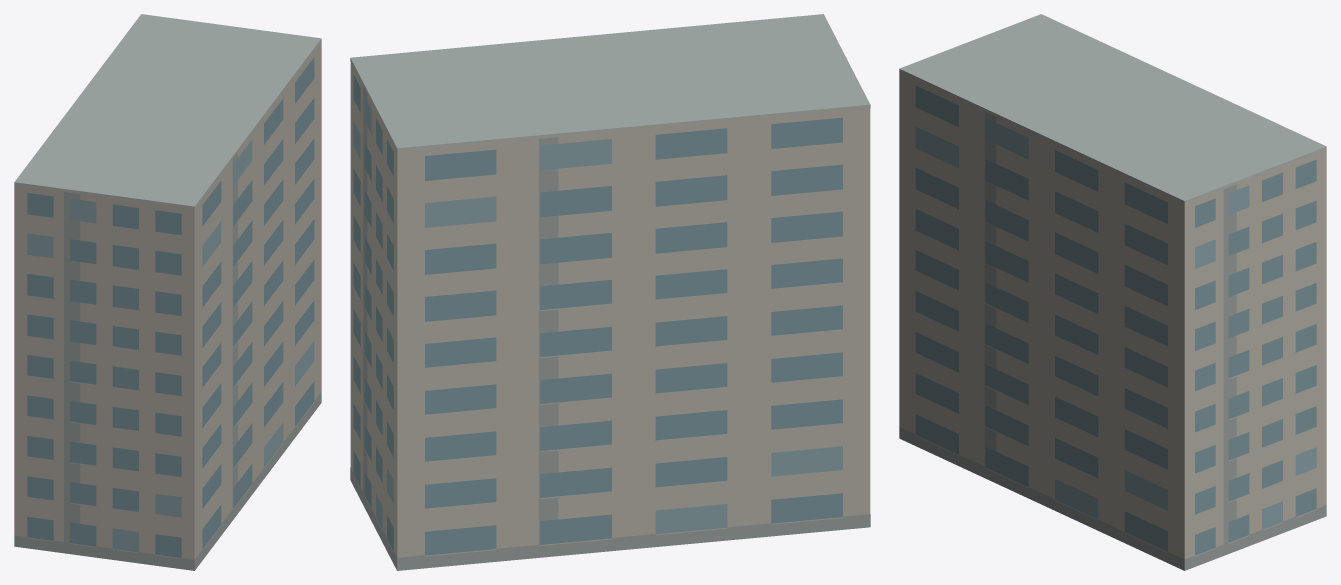
The model's file is residential-0916cb57-87c1-46ff-a042-8d96eeb8a8f4.glb.
3 views of the same model, side by side, from view 1: azimuth 30°, elevation 25°; view 2: azimuth 150°, elevation 25°; view 3: azimuth 270°, elevation 25° (orthographic). The views are drawn at different scales.
Visible parts, largest first — view 1: residential-0916cb57-87c1-46ff-a042-8d96eeb8a8f4.tmp; view 2: residential-0916cb57-87c1-46ff-a042-8d96eeb8a8f4.tmp; view 3: residential-0916cb57-87c1-46ff-a042-8d96eeb8a8f4.tmp.
Boxes of the visible parts, x1,y1,x2,y2 form: residential-0916cb57-87c1-46ff-a042-8d96eeb8a8f4.tmp: (14, 14, 321, 570); residential-0916cb57-87c1-46ff-a042-8d96eeb8a8f4.tmp: (350, 14, 870, 570); residential-0916cb57-87c1-46ff-a042-8d96eeb8a8f4.tmp: (899, 14, 1326, 570).
Size of the model in its own units: 30.39 by 28 by 29.34.
